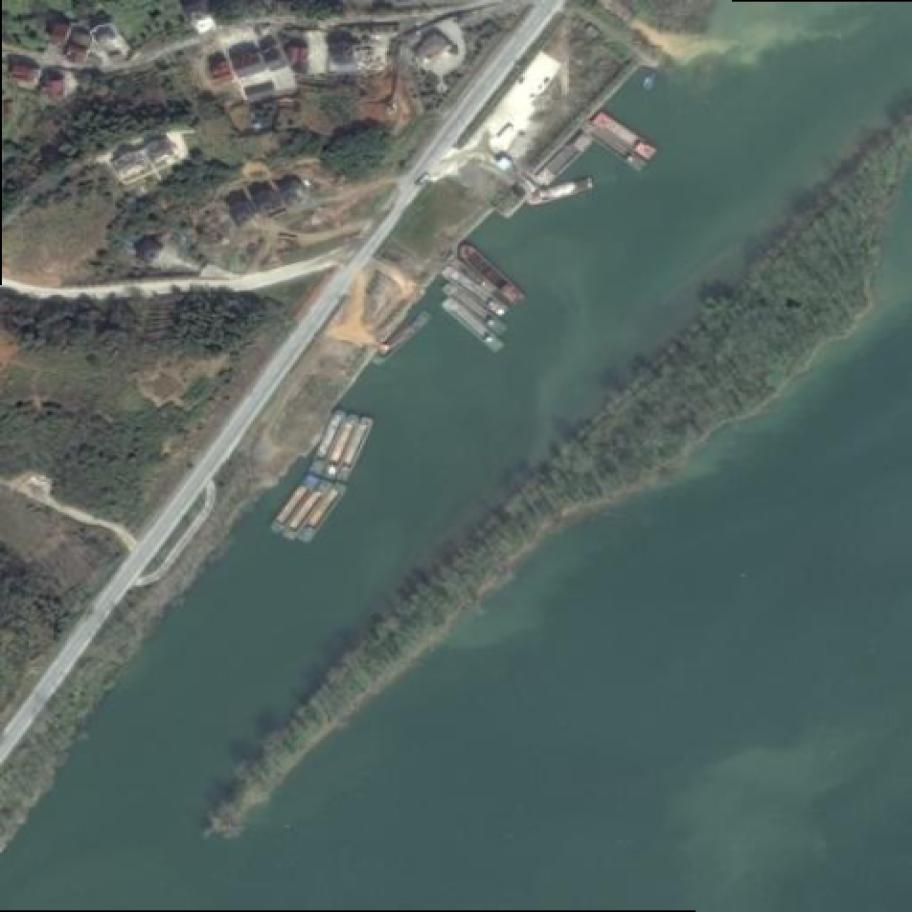ship: (458, 241, 526, 307), (374, 305, 434, 369), (582, 120, 651, 175), (441, 296, 504, 354), (443, 265, 510, 319), (445, 282, 508, 339), (535, 133, 593, 190), (284, 479, 331, 541), (270, 475, 318, 535), (596, 113, 657, 160), (299, 483, 343, 544), (338, 417, 374, 484), (310, 409, 345, 477), (324, 413, 358, 482), (527, 174, 594, 207)
